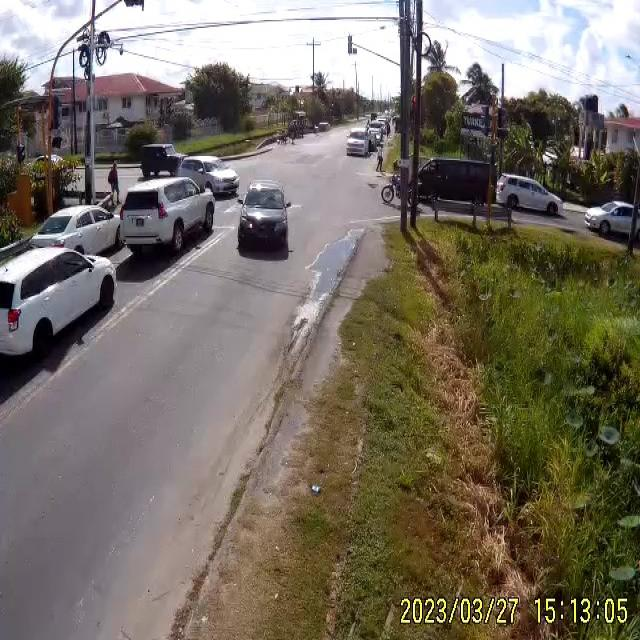car: (0, 243, 120, 373), (119, 177, 216, 256), (29, 205, 127, 256), (413, 156, 496, 206), (236, 183, 290, 255), (497, 176, 566, 218), (175, 157, 240, 200), (586, 202, 638, 241), (139, 143, 180, 179), (344, 130, 368, 156), (315, 123, 329, 132)
person: (108, 161, 121, 202)
